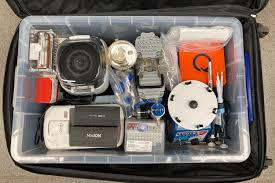suitcase: (2, 1, 272, 183)
